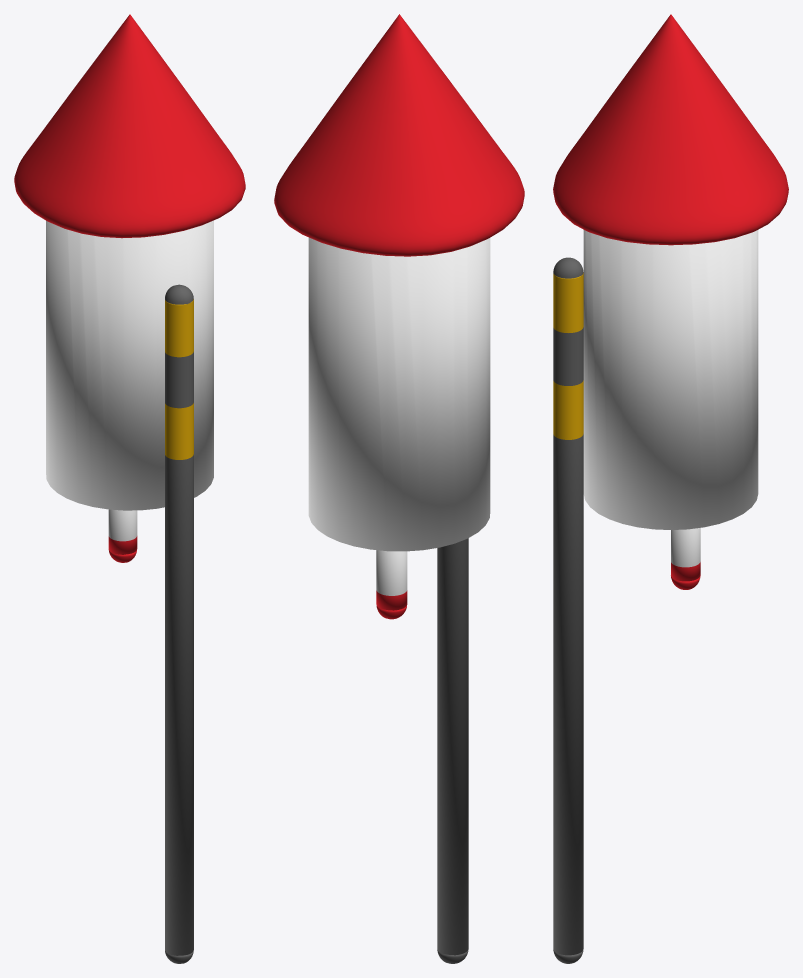
The model's file is Rocket_Cracker.fbx.
3 views of the same model, side by side, from view 1: azimuth 30°, elevation 25°; view 2: azimuth 150°, elevation 25°; view 3: azimuth 270°, elevation 25° (orthographic). The views are drawn at different scales.
Visible parts, largest first — view 1: Body, Nose, Object, String; view 2: Body, Nose, Object, String; view 3: Body, Nose, Object, String.
Boxes of the visible parts, bbox=[...] form: Body: bbox=[46, 220, 213, 510]; Nose: bbox=[14, 14, 245, 238]; Object: bbox=[165, 284, 193, 963]; String: bbox=[108, 509, 137, 562]; Body: bbox=[308, 237, 490, 551]; Nose: bbox=[274, 14, 524, 256]; Object: bbox=[437, 538, 468, 963]; String: bbox=[376, 550, 407, 619]; Body: bbox=[583, 230, 758, 529]; Nose: bbox=[553, 14, 788, 245]; Object: bbox=[553, 257, 583, 963]; String: bbox=[671, 528, 700, 589].
Bounding box in the file's own units: 25.04 × 111 × 25.04.
